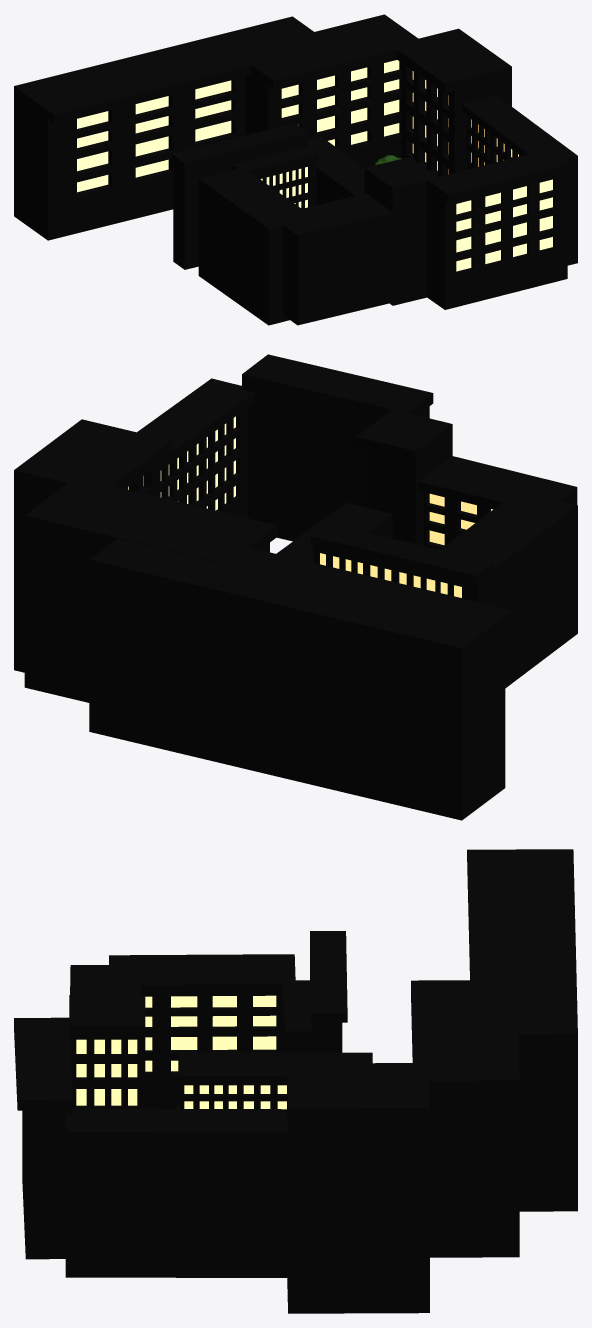
The model's file is DlaFonarey.fbx.
3 views of the same model, one above another, from view 1: azimuth 30°, elevation 25°; view 2: azimuth 150°, elevation 25°; view 3: azimuth 270°, elevation 25° (orthographic). The views are drawn at different scales.
Visible parts, largest first — view 1: Cube.011, Cube.002, Cube.010, Cube.007, Cube.008, Cube.004, Cube.005, Cube.001, Cube.003, Cube.006, Cube; view 2: Cube.011, Cube.010, Cube.002, Cube.008, Cube.004, Cube.003, Cube.001, Cube.005, Cube.007, Cube; view 3: Cube.003, Cube.004, Cube.011, Cube.010, Cube.008, Cube.002, Cube.001, Cube, Cube.005, Cube.006, Cube.007.
Part boxes in pixels (bbox=[...]): Cube.011: bbox=[14, 16, 313, 240]; Cube.002: bbox=[427, 149, 570, 309]; Cube.010: bbox=[233, 14, 417, 167]; Cube.007: bbox=[283, 193, 392, 325]; Cube.008: bbox=[198, 169, 313, 325]; Cube.004: bbox=[391, 28, 511, 177]; Cube.005: bbox=[171, 123, 308, 269]; Cube.001: bbox=[364, 157, 437, 305]; Cube.003: bbox=[462, 95, 577, 265]; Cube.006: bbox=[232, 146, 318, 208]; Cube: bbox=[308, 136, 364, 204]; Cube.011: bbox=[89, 538, 512, 820]; Cube.010: bbox=[24, 483, 277, 702]; Cube.002: bbox=[242, 354, 433, 541]; Cube.008: bbox=[440, 491, 577, 688]; Cube.004: bbox=[14, 419, 171, 672]; Cube.003: bbox=[137, 378, 254, 518]; Cube.001: bbox=[355, 409, 452, 545]; Cube.005: bbox=[310, 523, 492, 605]; Cube.007: bbox=[418, 456, 577, 549]; Cube: bbox=[276, 502, 392, 562]; Cube.003: bbox=[65, 1108, 287, 1277]; Cube.004: bbox=[287, 1063, 429, 1313]; Cube.011: bbox=[467, 849, 577, 1211]; Cube.010: bbox=[411, 980, 519, 1257]; Cube.008: bbox=[109, 954, 295, 1108]; Cube.002: bbox=[14, 1017, 72, 1259]; Cube.001: bbox=[69, 995, 145, 1108]; Cube: bbox=[178, 1052, 372, 1109]; Cube.005: bbox=[310, 931, 347, 1052]; Cube.006: bbox=[281, 980, 311, 1052]; Cube.007: bbox=[70, 965, 140, 994].
Size of the model in its own units: 2617 by 964 by 2399.
